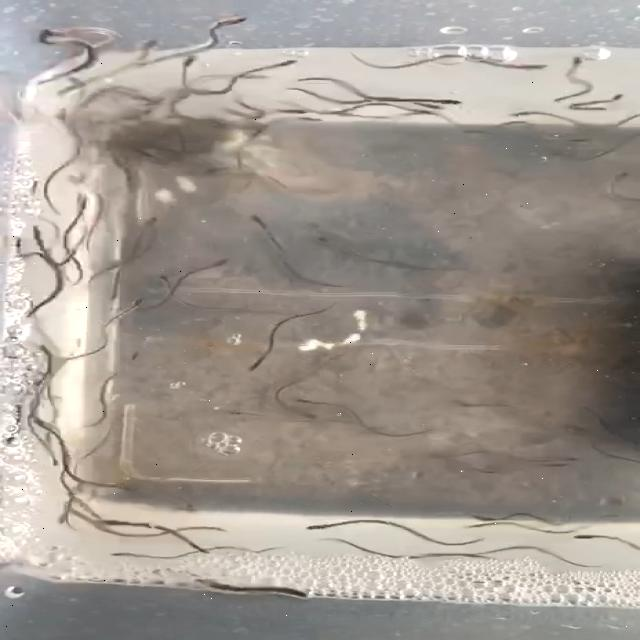inactive_glass_eel: (227, 208, 285, 240), (110, 211, 170, 235), (203, 18, 266, 40), (272, 574, 316, 605), (125, 266, 183, 288), (554, 50, 601, 76), (103, 546, 149, 572), (34, 25, 76, 53), (286, 392, 330, 418), (276, 400, 318, 426), (189, 251, 232, 276), (474, 506, 514, 532), (18, 221, 61, 245), (96, 515, 150, 534), (226, 409, 276, 429), (286, 519, 340, 537), (568, 529, 612, 551), (41, 508, 88, 528), (301, 227, 337, 249), (252, 350, 274, 380), (273, 59, 314, 74), (432, 90, 464, 108), (120, 292, 148, 312), (519, 60, 553, 76), (136, 34, 166, 52), (77, 198, 101, 220), (125, 344, 158, 358), (608, 88, 626, 108), (46, 108, 70, 121), (184, 54, 200, 66)
